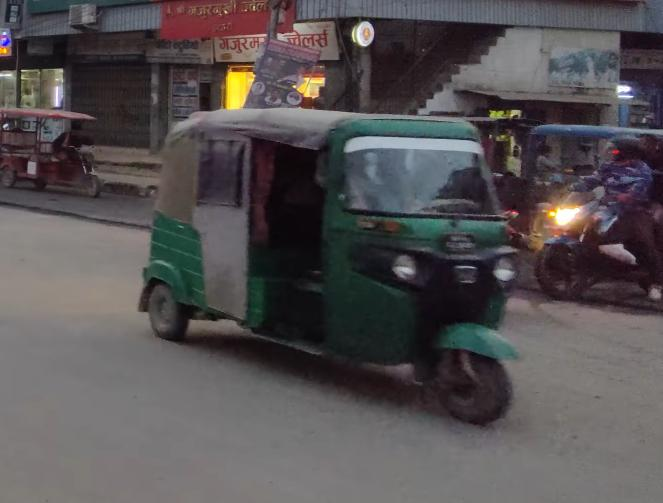auto_rickshaw: (137, 111, 528, 434)
e-rickshaw: (0, 104, 106, 204)
